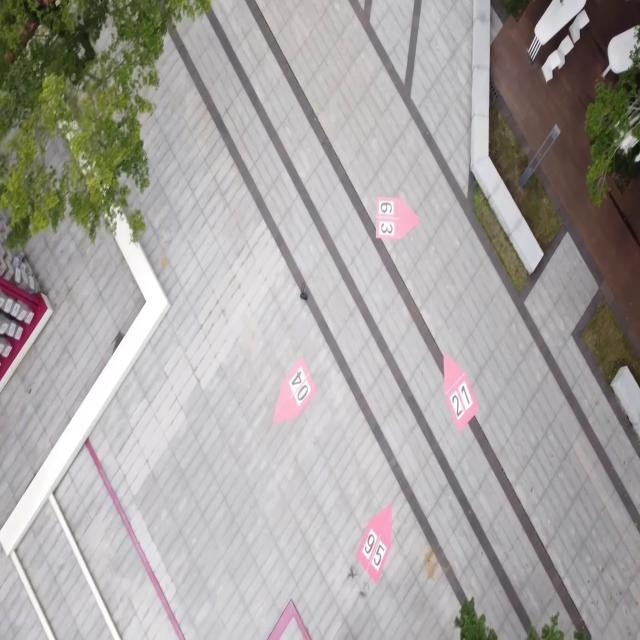-sign-: (1, 264, 54, 402), (357, 502, 394, 584), (443, 352, 479, 432), (275, 357, 317, 425), (376, 196, 420, 242)
